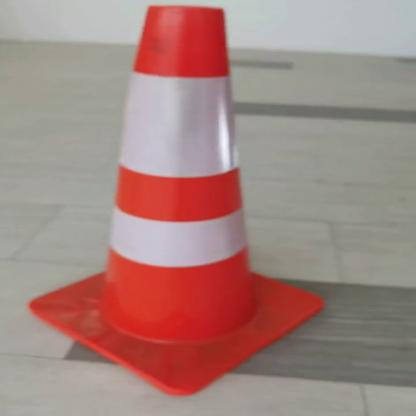cone: (14, 1, 365, 400)
